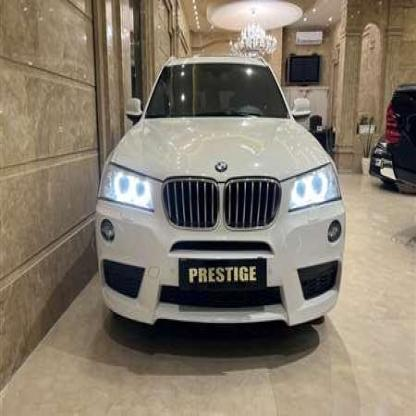Car: (99, 35, 349, 363), (377, 78, 416, 191)
